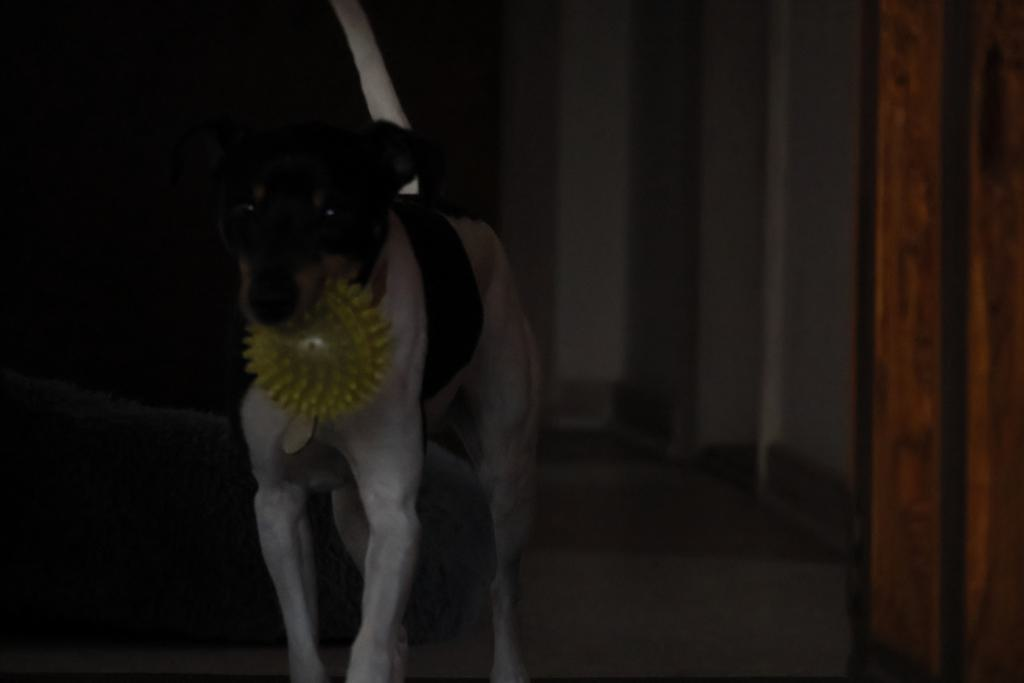Dog: (170, 0, 561, 683)
